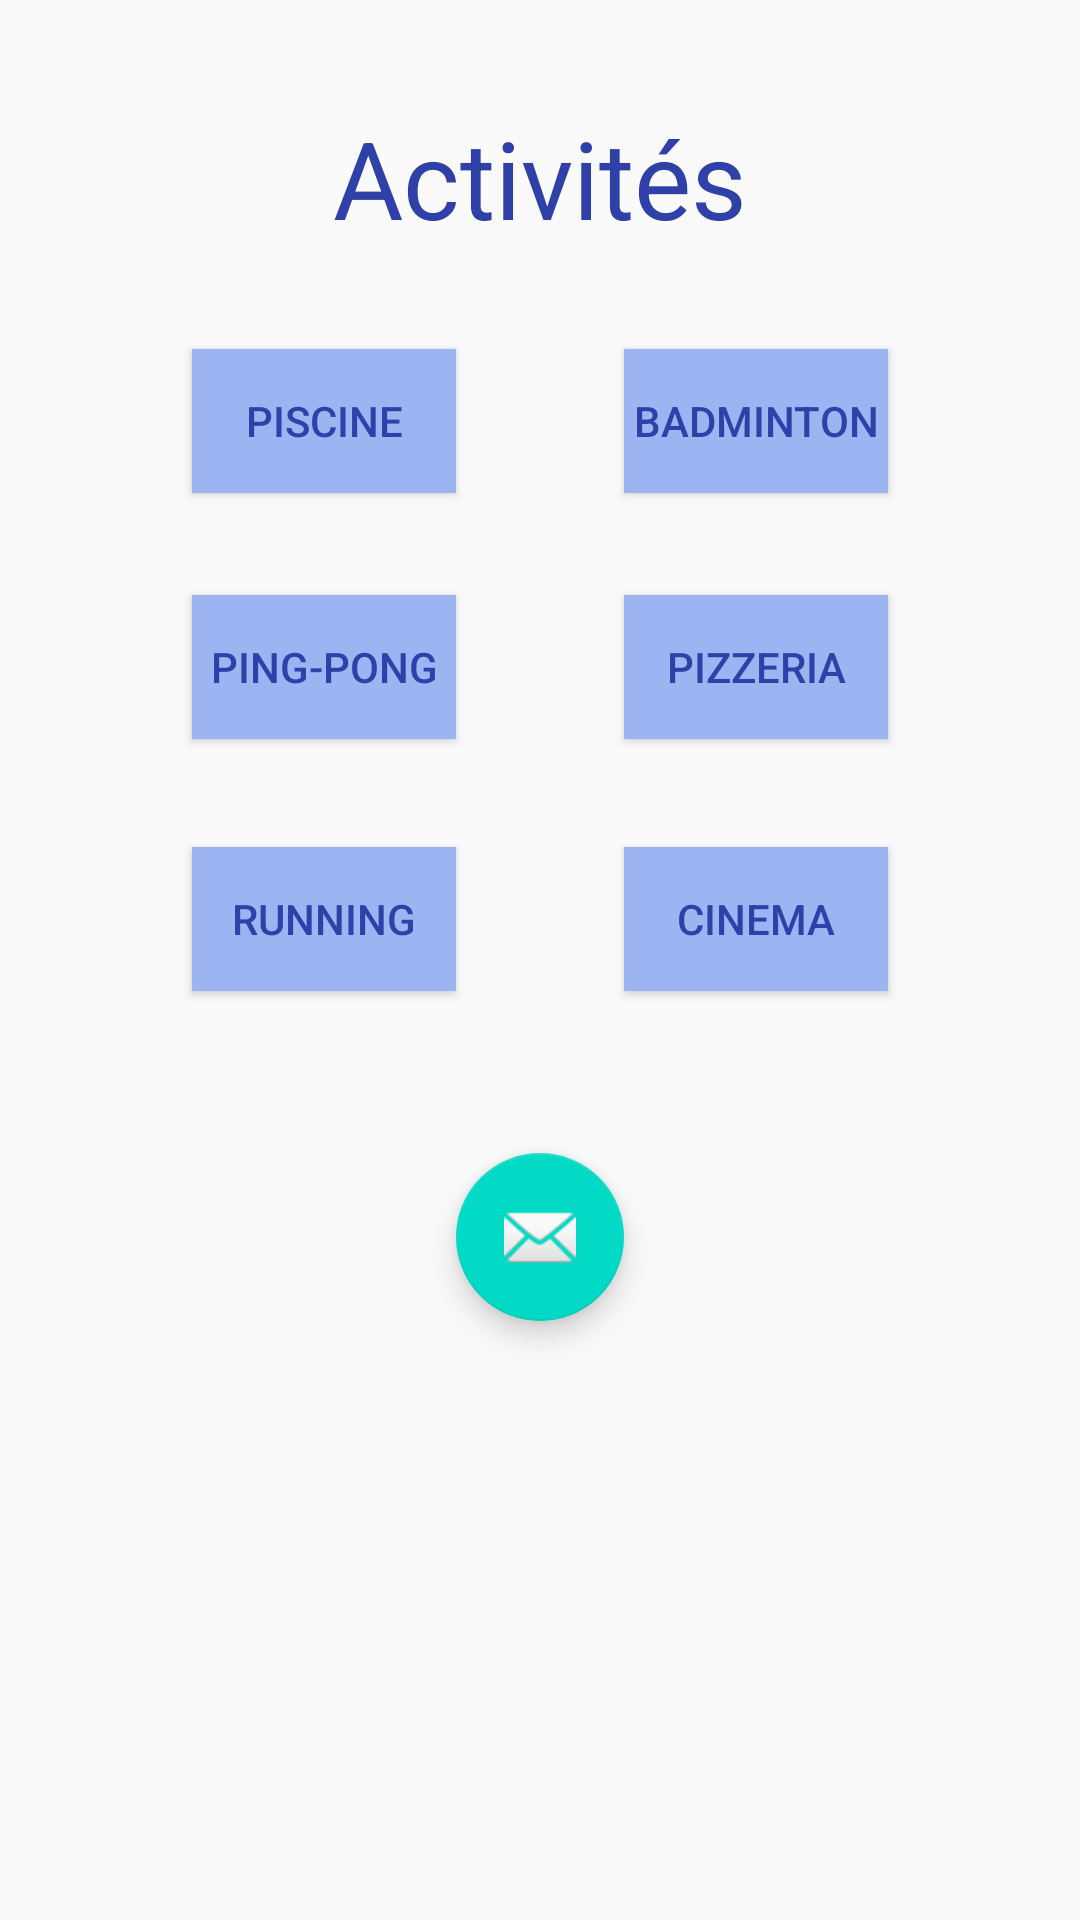

Named icons in this screenshot (1080px x 1920px) and their centers, [x,y]:
email: [540,1237]
